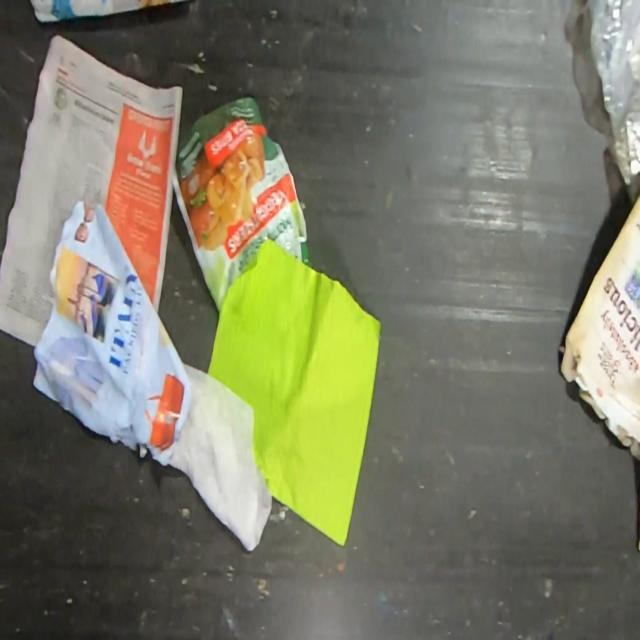cardboard: (560, 194, 640, 462)
rigid_plastic: (588, 0, 639, 208)
soft_plastic: (170, 96, 311, 317)
